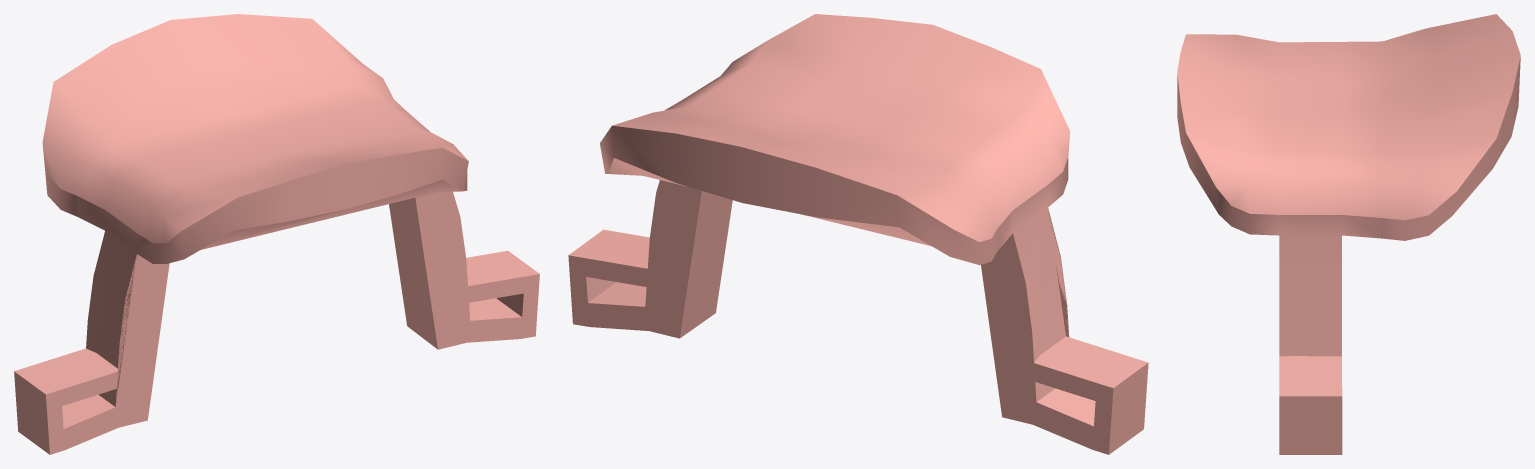
Rendered from pack.fbx.
The picture shows the model from 3 angles, left to right: view 1: azimuth 30°, elevation 25°; view 2: azimuth 150°, elevation 25°; view 3: azimuth 270°, elevation 25°; orthographic projection. The views are drawn at different scales.
Parts seen in each view (by area): view 1: polySurface12; view 2: polySurface12; view 3: polySurface12.
Part boxes in pixels (<box>): polySurface12: <box>14,14,539,454</box>; polySurface12: <box>568,14,1148,454</box>; polySurface12: <box>1177,14,1520,454</box>.
Size of the model in its own units: 14.14 by 7.83 by 8.62.
